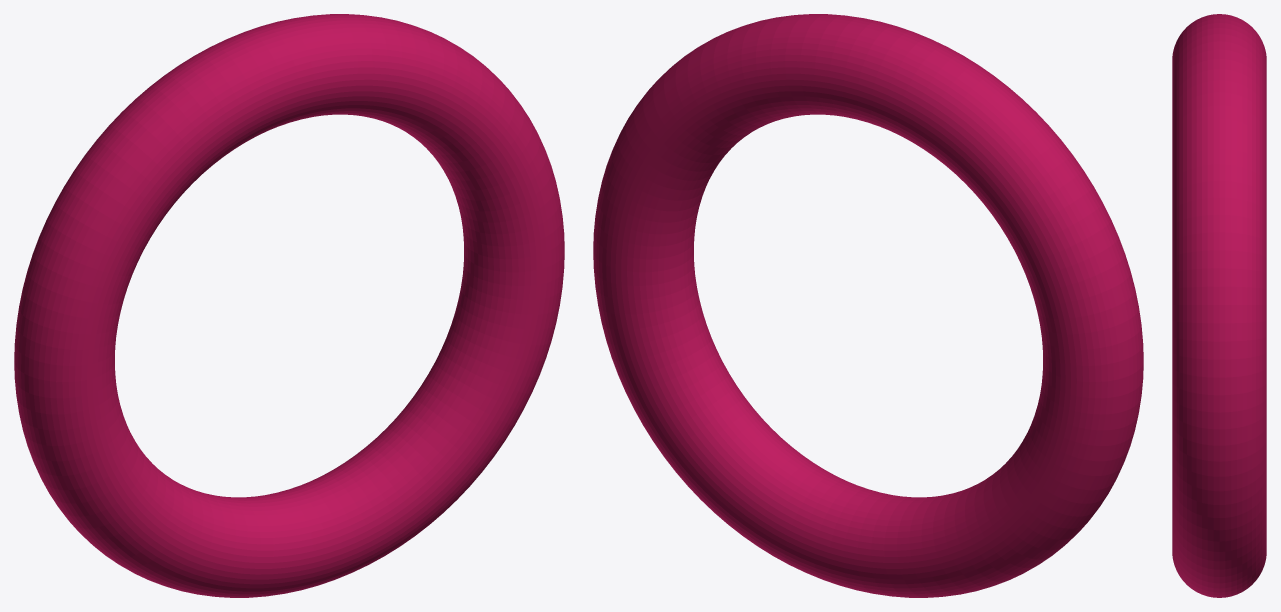
3 views of the same model, side by side, from view 1: azimuth 30°, elevation 25°; view 2: azimuth 150°, elevation 25°; view 3: azimuth 270°, elevation 25° (orthographic). The views are drawn at different scales.
Parts seen in each view (by area): view 1: world; view 2: world; view 3: world.
Part boxes in pixels (x1,y1,x2,y2): world: (14, 14, 564, 597); world: (593, 14, 1143, 597); world: (1172, 14, 1266, 597).
Bounding box in the file's own units: 25.47 × 25.47 × 4.13.
